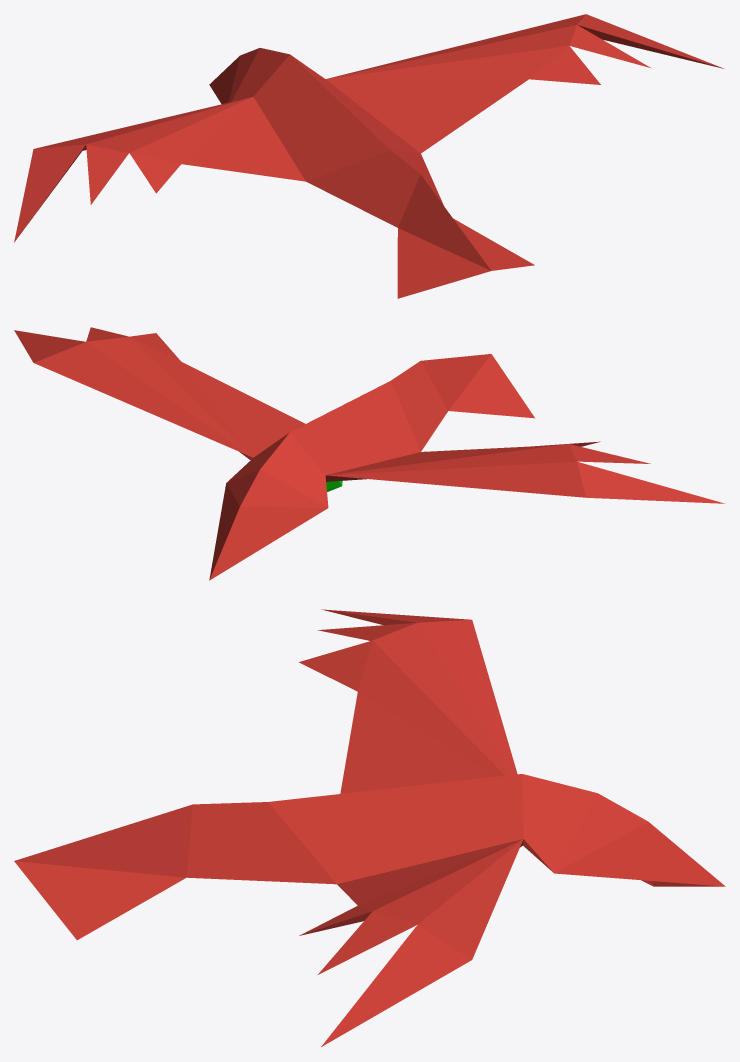
The model's file is SKYBIRD.fbx.
The picture shows the model from 3 angles, top to bottom: view 1: azimuth 30°, elevation 25°; view 2: azimuth 150°, elevation 25°; view 3: azimuth 270°, elevation 25°; orthographic projection. The views are drawn at different scales.
Visible parts, largest first — view 1: Plane.003; view 2: Plane.003; view 3: Plane.003.
Part boxes in pixels (x1,y1,x2,y2): Plane.003: (14, 14, 724, 298); Plane.003: (14, 327, 725, 580); Plane.003: (14, 609, 725, 1046).
Bounding box in the file's own units: 787 × 104 × 541.
